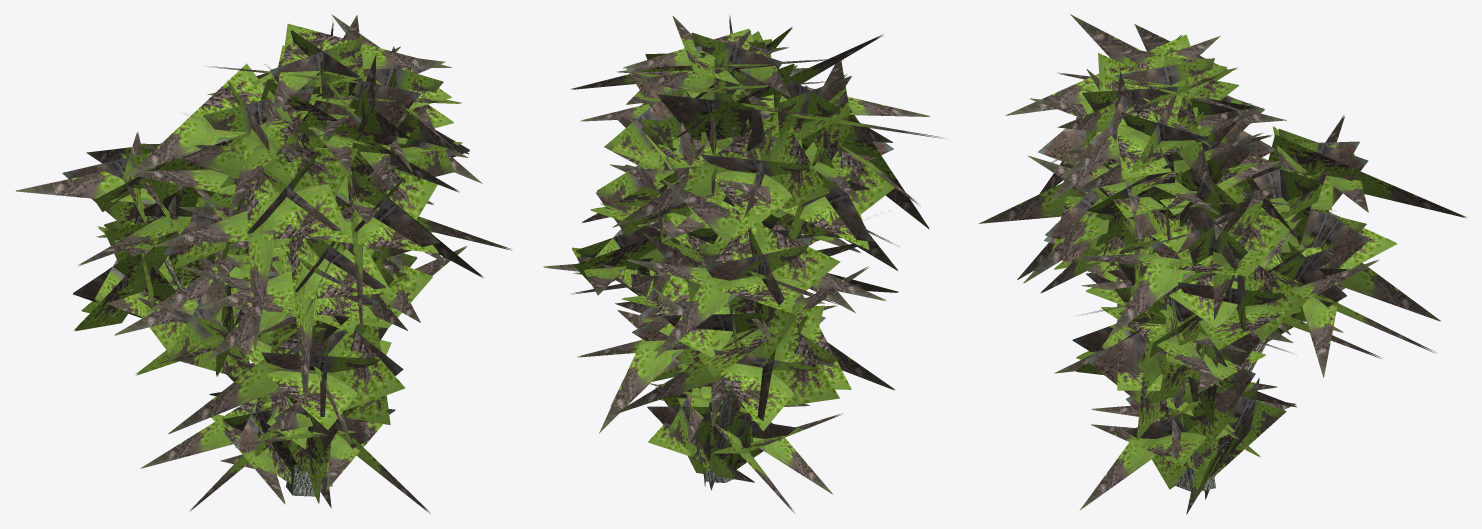
Rendered from topol.glb.
3 renders of one model, left to right at view 1: azimuth 30°, elevation 25°; view 2: azimuth 150°, elevation 25°; view 3: azimuth 270°, elevation 25°, orthographic. The views are drawn at different scales.
Parts seen in each view (by area): view 1: topol_2_celek, topol_0_celek, topol_1_celek; view 2: topol_2_celek, topol_0_celek, topol_1_celek; view 3: topol_2_celek, topol_0_celek, topol_1_celek.
Boxes of the visible parts, left/top/right/bottom form: topol_2_celek: left=15, top=63, right=511, bottom=514; topol_0_celek: left=205, top=14, right=482, bottom=471; topol_1_celek: left=209, top=51, right=445, bottom=508; topol_2_celek: left=543, top=34, right=943, bottom=513; topol_0_celek: left=570, top=16, right=836, bottom=447; topol_1_celek: left=582, top=14, right=860, bottom=490; topol_2_celek: left=978, top=14, right=1466, bottom=510; topol_0_celek: left=1054, top=36, right=1311, bottom=486; topol_1_celek: left=1040, top=53, right=1296, bottom=514.
Bounding box in the file's own units: 19.15 × 22.46 × 22.22.
Materials: 1 (1 with a texture image).
